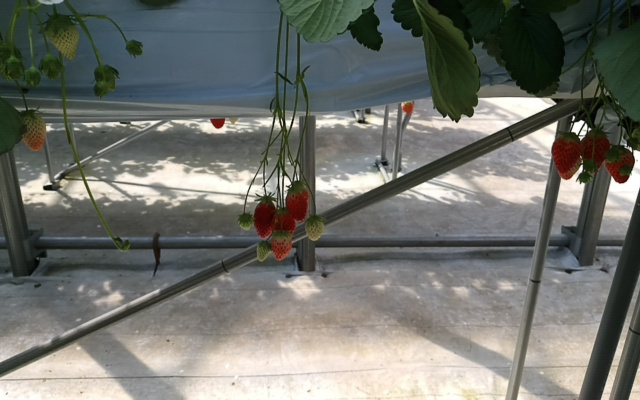GreenStrawberry: (42, 14, 81, 63), (21, 108, 47, 153), (272, 232, 293, 261), (304, 215, 325, 242), (255, 241, 273, 263), (237, 213, 253, 231)
MatureStrawberry: (580, 127, 611, 177), (550, 132, 580, 181), (605, 144, 636, 185), (253, 194, 279, 239), (286, 180, 309, 223), (274, 206, 296, 241)
